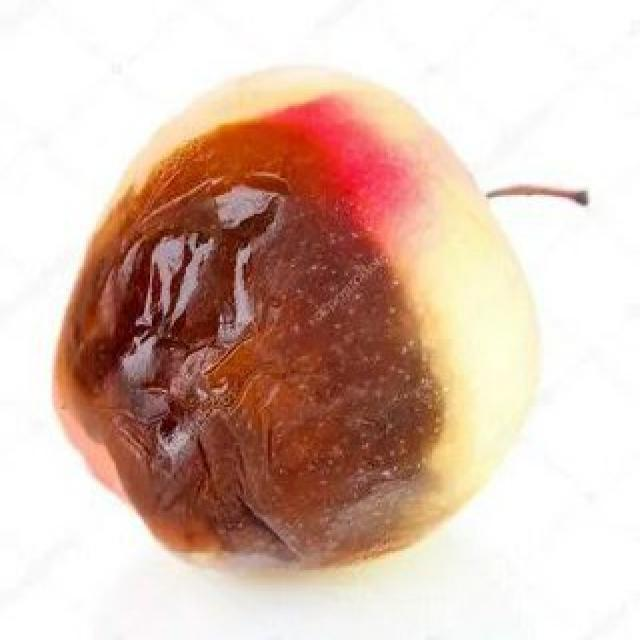Rotten: (55, 60, 563, 600)
